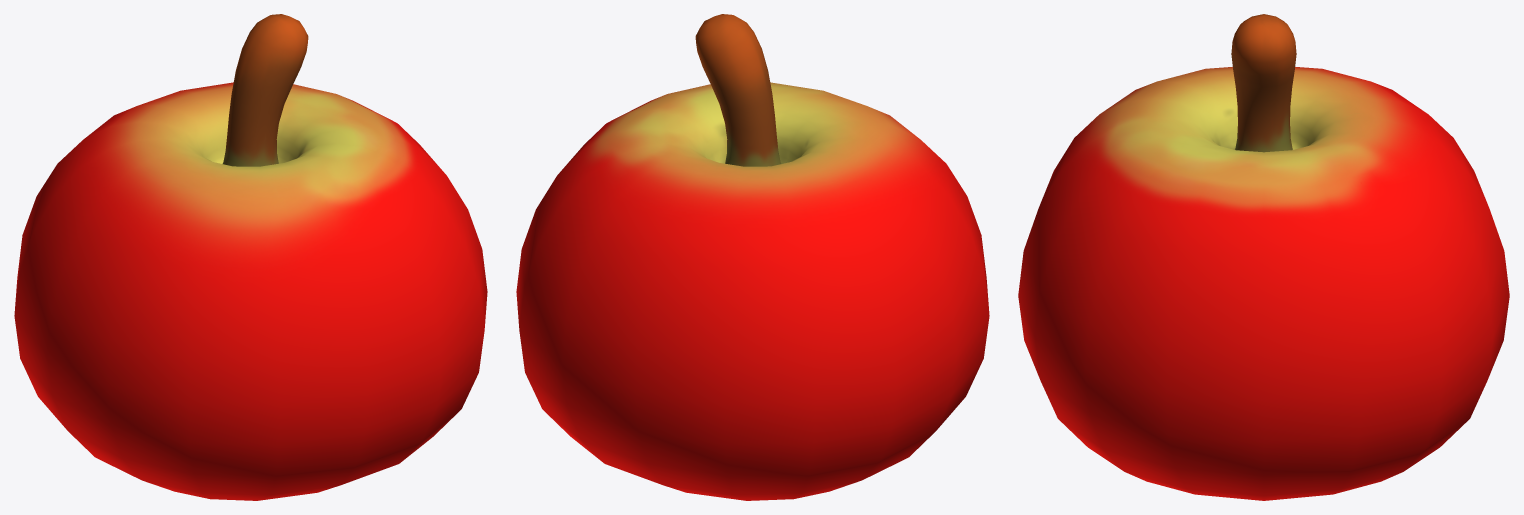
Rendered from apple.fbx.
The picture shows the model from 3 angles, left to right: view 1: azimuth 30°, elevation 25°; view 2: azimuth 150°, elevation 25°; view 3: azimuth 270°, elevation 25°; orthographic projection. The views are drawn at different scales.
Visible parts, largest first — view 1: Cube.015; view 2: Cube.015; view 3: Cube.015.
Boxes of the visible parts, box(x1,y1,x2,y2) form: Cube.015: box(14, 14, 487, 500); Cube.015: box(516, 14, 989, 500); Cube.015: box(1018, 14, 1509, 500).
Bounding box in the file's own units: 23.7 × 24.49 × 23.7.
1 material, 1 textured.
